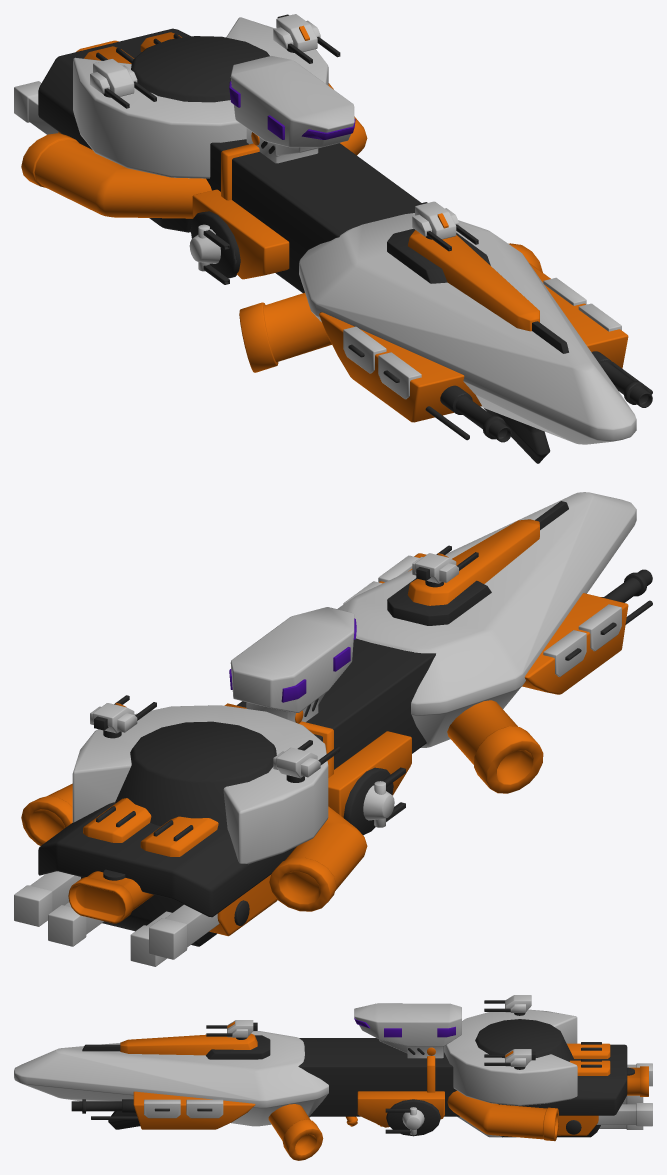
3 views of the same model, one above another, from view 1: azimuth 30°, elevation 25°; view 2: azimuth 150°, elevation 25°; view 3: azimuth 270°, elevation 25° (orthographic). The views are drawn at different scales.
Parts seen in each view (by area): view 1: Destroyer_5.003; view 2: Destroyer_5.003; view 3: Destroyer_5.003.
Boxes of the visible parts, x1,y1,x2,y2 form: Destroyer_5.003: (14, 14, 652, 463); Destroyer_5.003: (14, 492, 652, 966); Destroyer_5.003: (14, 995, 652, 1160).
Size of the model in its own units: 22.18 by 13.38 by 65.65.
